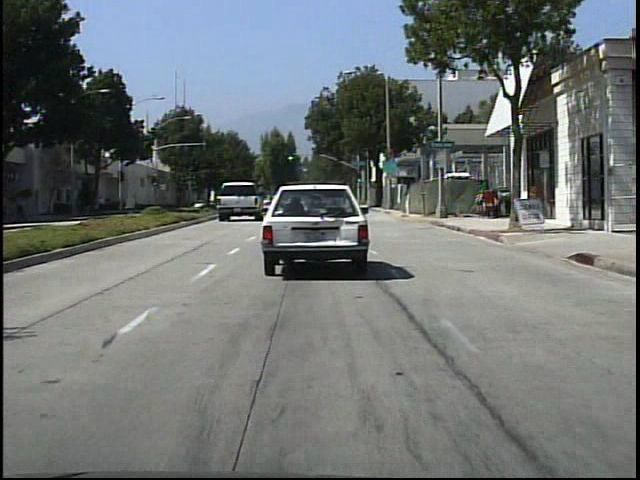person: (15, 195, 35, 226)
